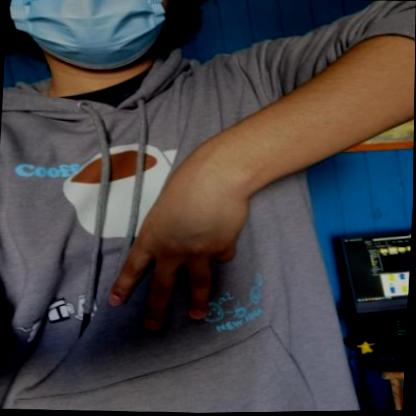M: (85, 175, 273, 349)
